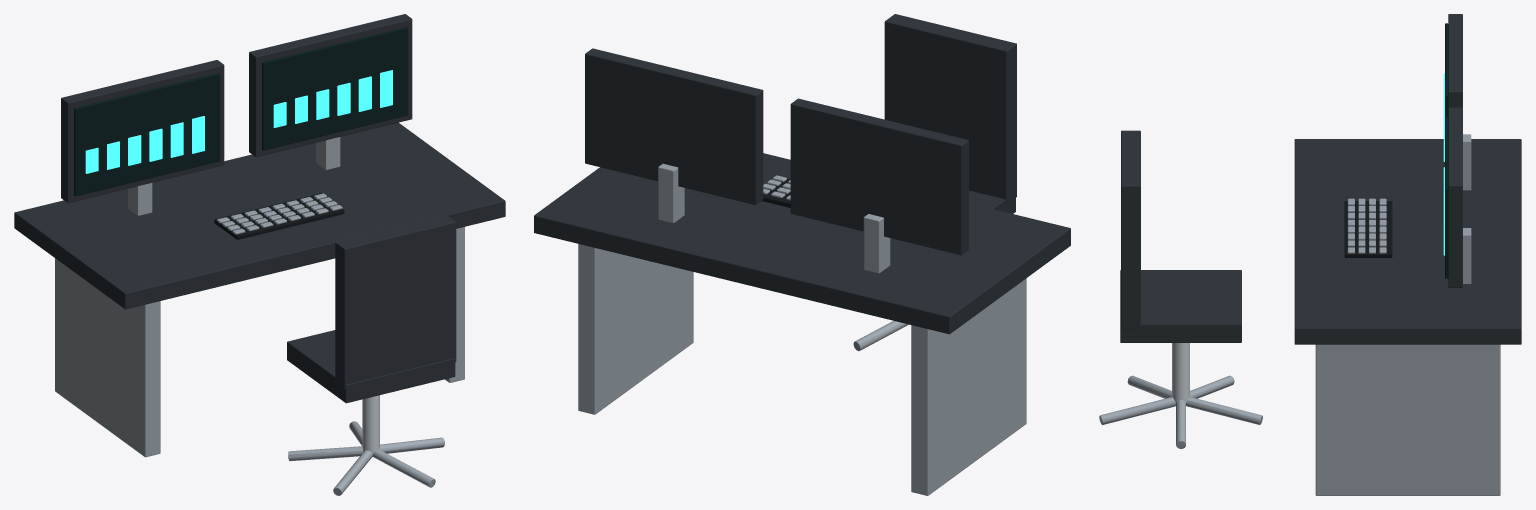
Rendered from Operations.glb.
3 renders of one model, left to right at view 1: azimuth 30°, elevation 25°; view 2: azimuth 150°, elevation 25°; view 3: azimuth 270°, elevation 25°, orthographic. The views are drawn at different scales.
Visible parts, largest first — view 1: Console; view 2: Console; view 3: Console.
Part boxes in pixels (bbox=[...]): Console: bbox=[14, 14, 505, 495]; Console: bbox=[534, 14, 1070, 495]; Console: bbox=[1099, 14, 1521, 495].
Size of the model in its own units: 1.7 by 1.33 by 1.6.
